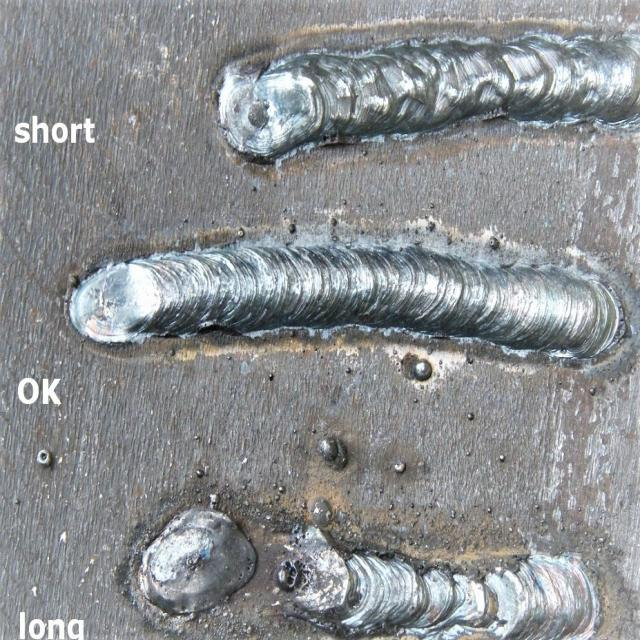Bad Weld: (138, 506, 596, 638), (218, 27, 640, 146)
Defect: (267, 540, 317, 610)
Good Weld: (150, 242, 607, 351)
